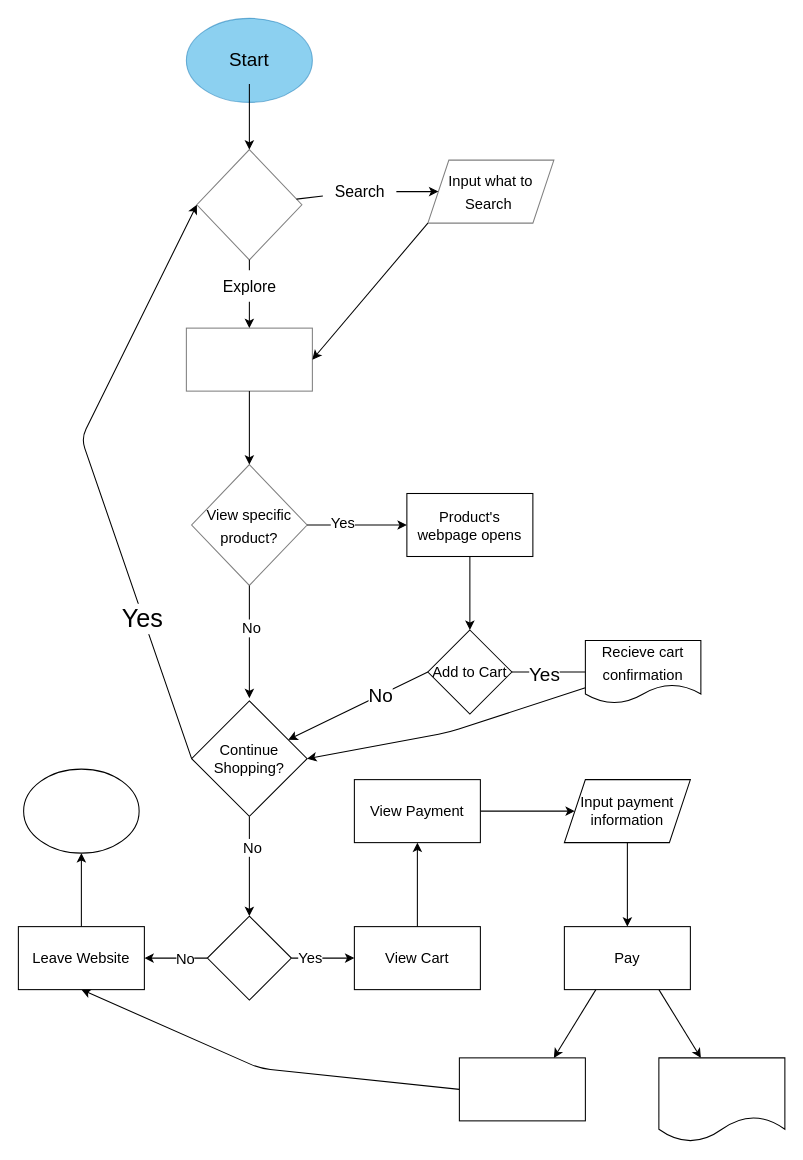
The diagram is 803 pixels wide and 1160 high, and some of its shapes have lost their labels. The shapes that lost their labels are listed below. From the top down, each one's centre as x and y in pixels, then its label:
At (x=249, y=204): "Search or Explore?".
At (x=248, y=359): "Load page of products".
At (x=81, y=810): "End".
At (x=248, y=957): "Checkout?".
At (x=521, y=1089): "Confirmation Screen".
At (x=721, y=1099): "Confirmation Email".
